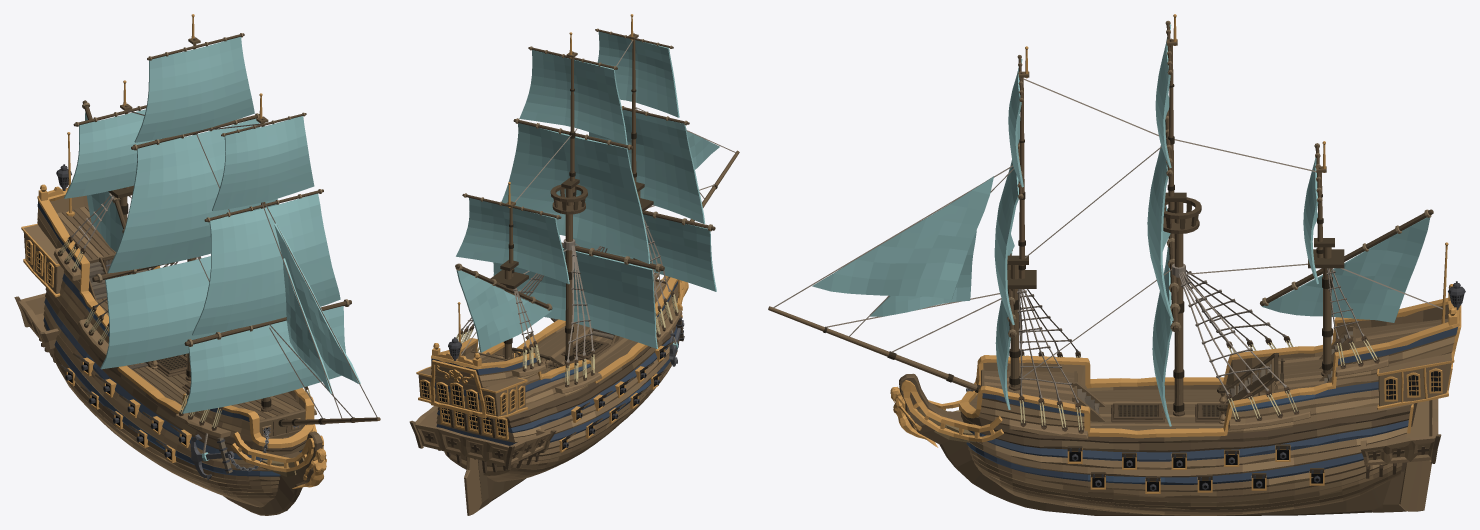
File: SHIP_LARGE.fbx
3 renders of one model, left to right at view 1: azimuth 30°, elevation 25°; view 2: azimuth 150°, elevation 25°; view 3: azimuth 270°, elevation 25°, orthographic. The views are drawn at different scales.
Visible parts, largest first — view 1: Sails, SM_Veh_Boat_Warship_01_Hull; view 2: Sails, SM_Veh_Boat_Warship_01_Hull; view 3: SM_Veh_Boat_Warship_01_Hull, Sails.
Part boxes in pixels (<box>): Sails: <box>64,37,360,413</box>; SM_Veh_Boat_Warship_01_Hull: <box>14,14,380,515</box>; Sails: <box>456,31,719,352</box>; SM_Veh_Boat_Warship_01_Hull: <box>409,14,739,515</box>; SM_Veh_Boat_Warship_01_Hull: <box>768,14,1465,515</box>; Sails: <box>812,24,1430,426</box>.
Size of the model in its own units: 14.59 by 31.5 by 39.75.
